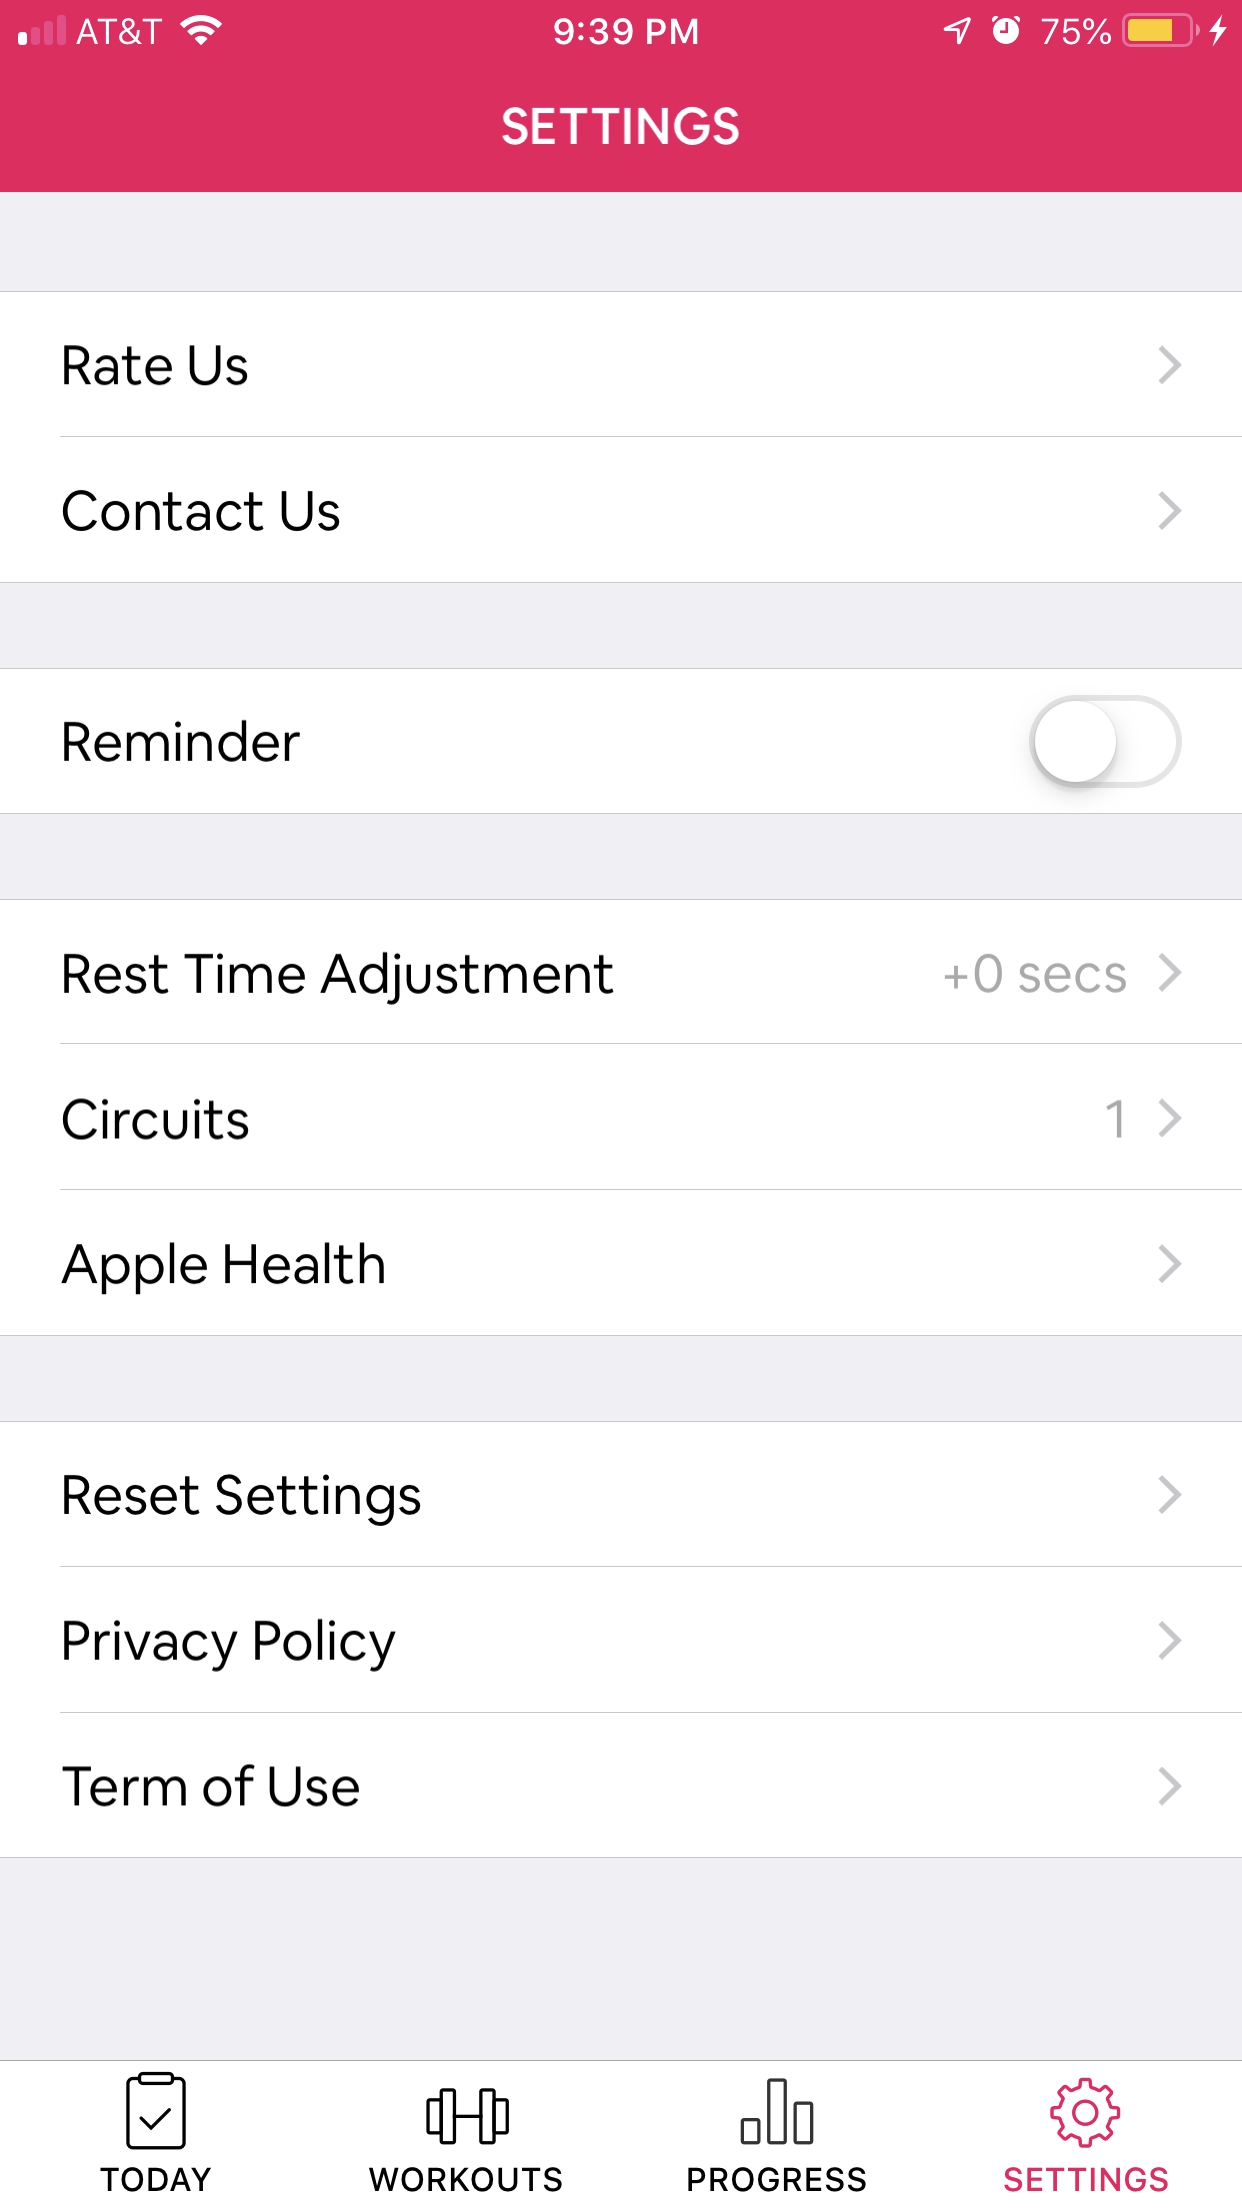Icon: (739, 2078, 814, 2146), (1049, 2078, 1121, 2149), (126, 2072, 188, 2150), (1157, 1621, 1183, 1661), (1159, 346, 1183, 387), (1159, 490, 1183, 531), (1159, 952, 1183, 993), (1159, 1096, 1183, 1137), (1159, 1244, 1183, 1284), (1159, 1474, 1183, 1515), (1159, 1767, 1183, 1808)
Image: (425, 2088, 510, 2146)
Switch: (1028, 695, 1183, 789)
Text: (64, 951, 616, 1005), (64, 1473, 422, 1527), (64, 1617, 397, 1673), (61, 1240, 385, 1297), (64, 1764, 361, 1808), (64, 490, 341, 532), (64, 720, 302, 764), (502, 106, 740, 147), (62, 1096, 250, 1140), (64, 346, 249, 387), (943, 954, 1127, 995), (369, 2166, 563, 2193), (688, 2166, 867, 2193), (1004, 2166, 1169, 2191), (102, 2166, 212, 2193), (1106, 1099, 1124, 1139)
UpperTaskBar: (2, 2, 1242, 49)
